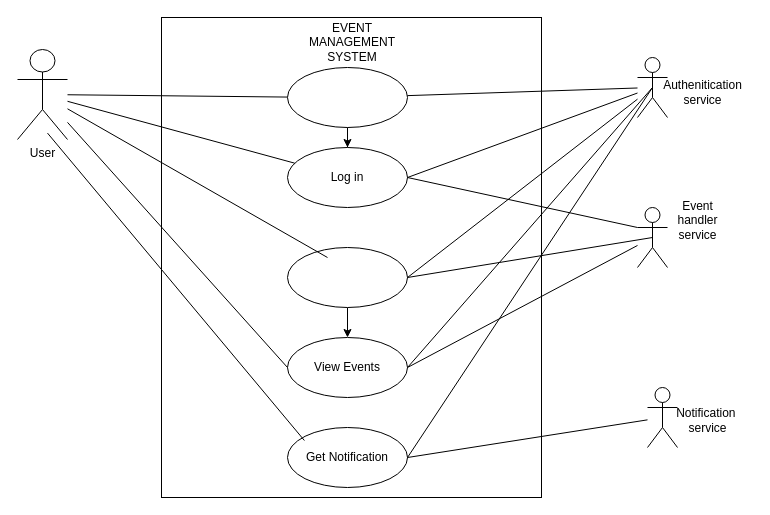
Image size: 770x515. Some labels were removed from this diagram. Here are the shapes that lost their labels. From the top down, the box of each, then its label:
(286, 66, 408, 128): Register
(286, 246, 408, 308): Create Event
